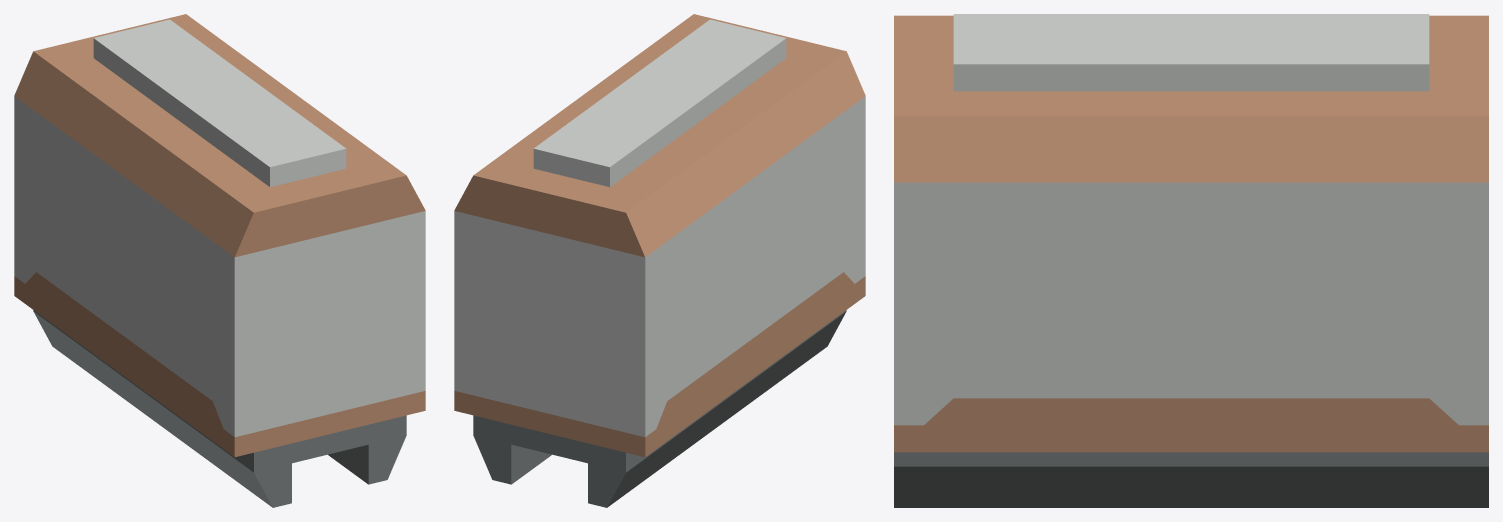
The model's file is srf_container.glb.
3 renders of one model, left to right at view 1: azimuth 30°, elevation 25°; view 2: azimuth 150°, elevation 25°; view 3: azimuth 270°, elevation 25°, orthographic. The views are drawn at different scales.
Parts seen in each view (by area): view 1: monorail_trainBox; view 2: monorail_trainBox; view 3: monorail_trainBox.
Part boxes in pixels (x1=…): monorail_trainBox: x1=14, y1=14, x2=425, y2=507; monorail_trainBox: x1=454, y1=14, x2=865, y2=507; monorail_trainBox: x1=894, y1=14, x2=1488, y2=507.
Bounding box in the file's own units: 0.5 × 0.8 × 1.
